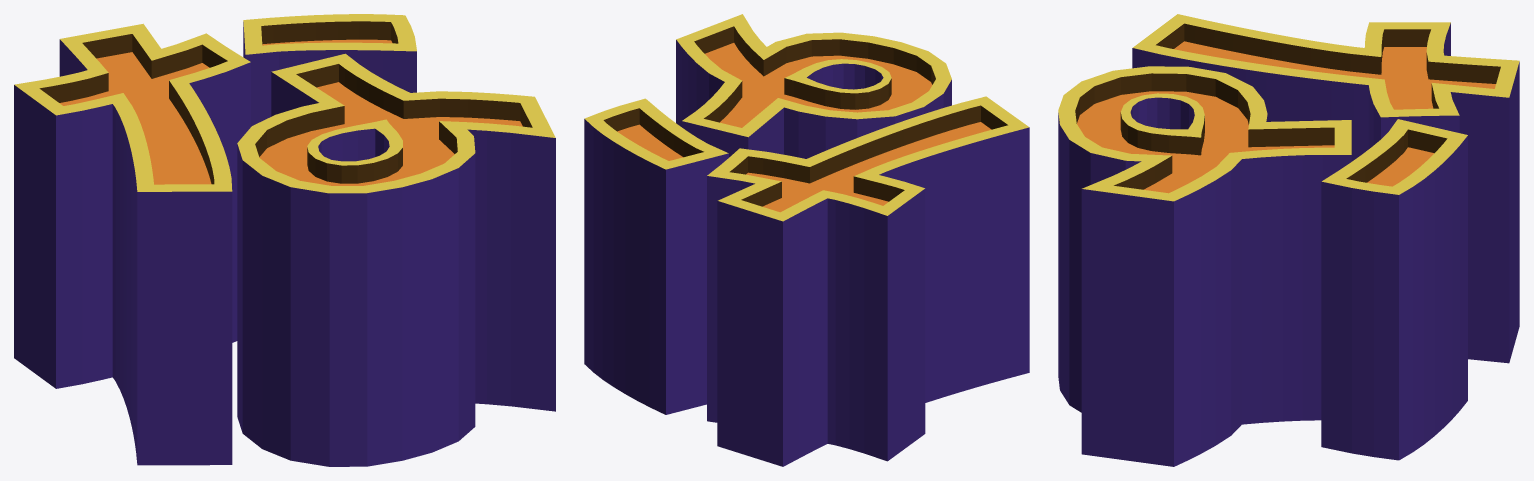
3 views of the same model, side by side, from view 1: azimuth 30°, elevation 25°; view 2: azimuth 150°, elevation 25°; view 3: azimuth 270°, elevation 25° (orthographic). The views are drawn at different scales.
Visible parts, largest first — view 1: te; view 2: te; view 3: te.
Boxes of the visible parts, x1,y1,x2,y2 form: te: (14,14,555,466); te: (584,14,1029,466); te: (1058,14,1519,466).
Size of the model in its own units: 0.2098 by 0.1385 by 0.2182.
